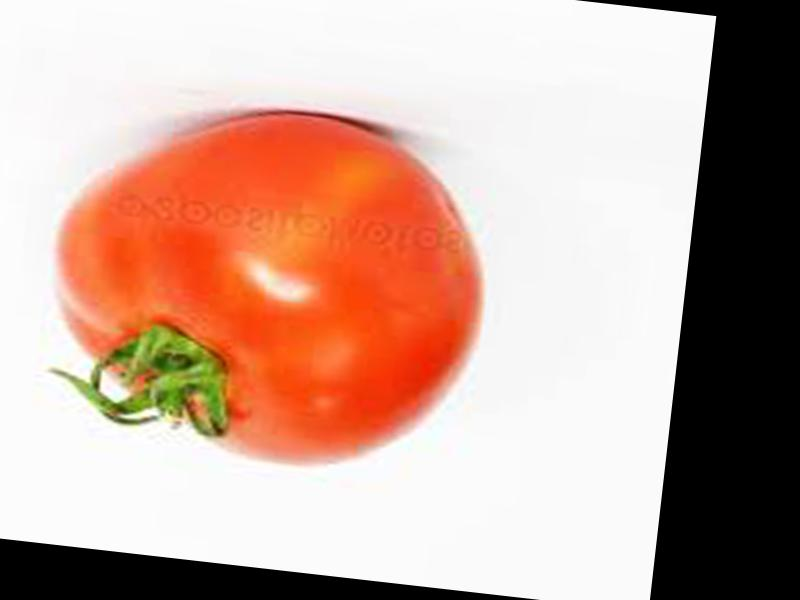Tomato: (35, 88, 500, 489)
